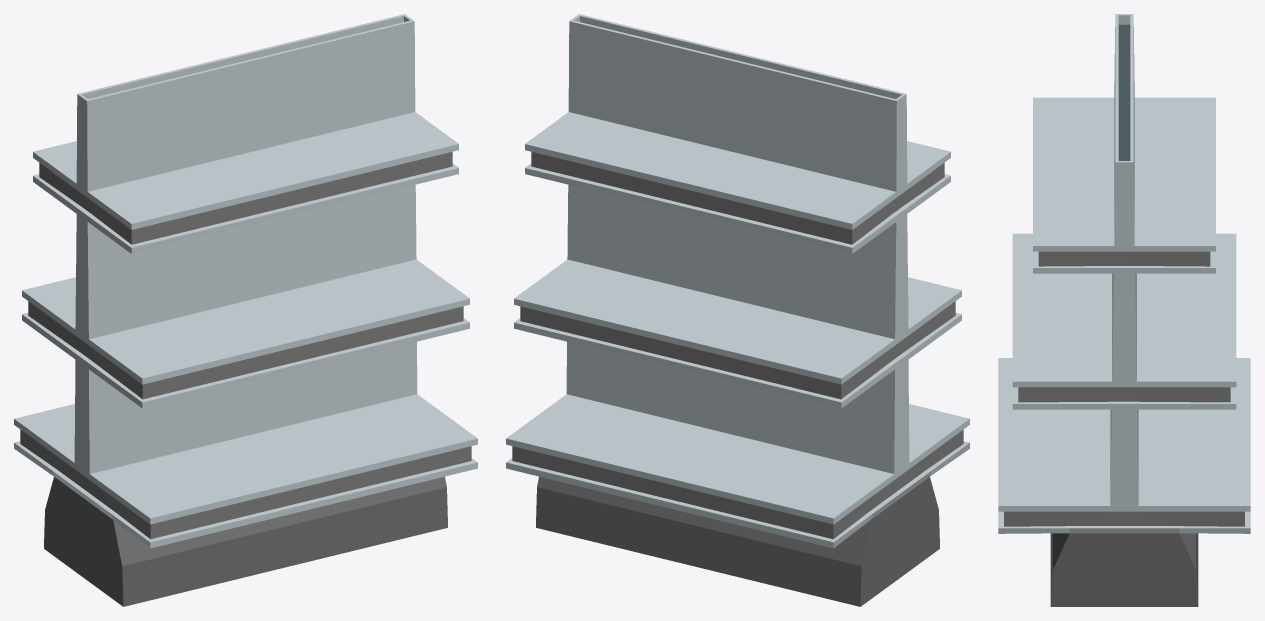
File: Two Sided Shelving Small.fbx
The picture shows the model from 3 angles, left to right: view 1: azimuth 30°, elevation 25°; view 2: azimuth 150°, elevation 25°; view 3: azimuth 270°, elevation 25°; orthographic projection. The views are drawn at different scales.
Visible parts, largest first — view 1: Two Sided Shelving Small; view 2: Two Sided Shelving Small; view 3: Two Sided Shelving Small.
Boxes of the visible parts, x1,y1,x2,y2 form: Two Sided Shelving Small: (14,14,477,606); Two Sided Shelving Small: (506,14,969,606); Two Sided Shelving Small: (998,14,1250,606).
Size of the model in its own units: 111 by 156 by 80.19.
Materials: 1 (1 with a texture image).
